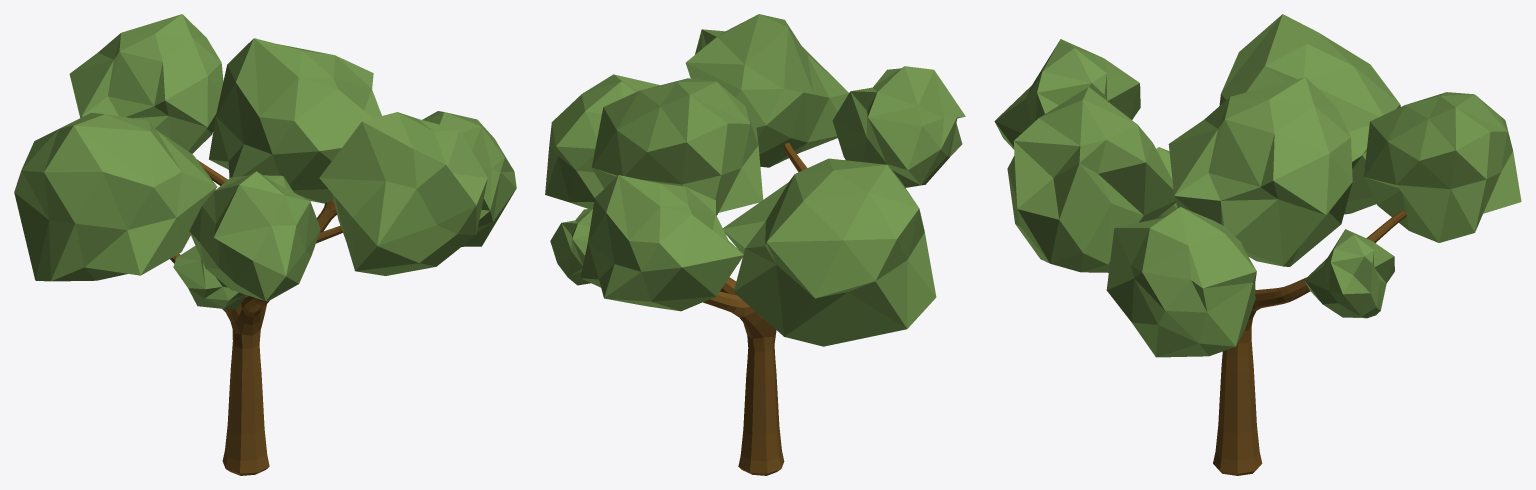
File: TreeMT.glb
3 views of the same model, side by side, from view 1: azimuth 30°, elevation 25°; view 2: azimuth 150°, elevation 25°; view 3: azimuth 270°, elevation 25° (orthographic). The views are drawn at different scales.
Parts seen in each view (by area): view 1: Plane; view 2: Plane; view 3: Plane.
Boxes of the visible parts, x1=… form: Plane: x1=14, y1=14, x2=516, y2=475; Plane: x1=545, y1=14, x2=965, y2=475; Plane: x1=994, y1=14, x2=1521, y2=475.
Bounding box in the file's own units: 11.79 × 10.64 × 12.31.
